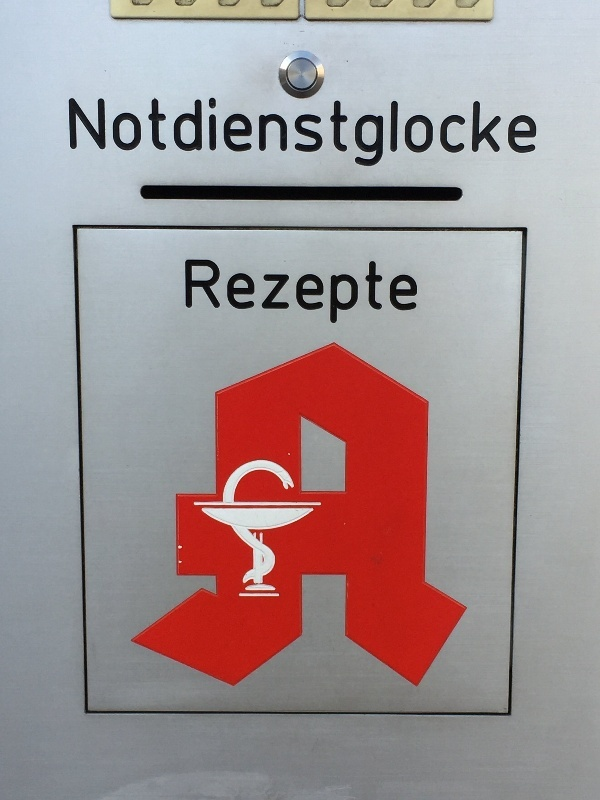text: (145, 329, 160, 691), (161, 329, 176, 691), (177, 329, 192, 691), (193, 329, 208, 691), (209, 329, 224, 691), (225, 329, 240, 691), (241, 329, 256, 691), (257, 329, 272, 691), (273, 329, 288, 691), (289, 329, 304, 691), (305, 329, 320, 691), (321, 329, 336, 691), (337, 329, 352, 691), (353, 329, 368, 691), (369, 329, 384, 691), (385, 329, 400, 691), (401, 329, 416, 691), (417, 329, 432, 691), (433, 329, 448, 691), (449, 329, 464, 691), (133, 329, 144, 691), (465, 329, 469, 691), (81, 99, 96, 173), (97, 99, 112, 173), (113, 99, 128, 173), (129, 99, 144, 173), (145, 99, 160, 173), (161, 99, 176, 173), (177, 99, 192, 173), (193, 99, 208, 173), (209, 99, 224, 173), (225, 99, 240, 173), (241, 99, 256, 173), (257, 99, 272, 173), (273, 99, 288, 173), (289, 99, 304, 173), (305, 99, 320, 173), (321, 99, 336, 173), (337, 99, 352, 173), (353, 99, 368, 173), (369, 99, 384, 173), (385, 99, 400, 173), (401, 99, 416, 173), (417, 99, 432, 173), (433, 99, 448, 173), (449, 99, 464, 173), (465, 99, 480, 173), (481, 99, 496, 173), (497, 99, 512, 173), (513, 99, 528, 173), (193, 260, 208, 326), (209, 260, 224, 326), (225, 260, 240, 326), (241, 260, 256, 326), (257, 260, 272, 326), (273, 260, 288, 326), (289, 260, 304, 326), (305, 260, 320, 326), (321, 260, 336, 326), (337, 260, 352, 326), (353, 260, 368, 326), (369, 260, 384, 326), (385, 260, 400, 326), (401, 260, 416, 326), (68, 99, 80, 173), (529, 99, 539, 173), (186, 260, 192, 326), (417, 260, 419, 326)
